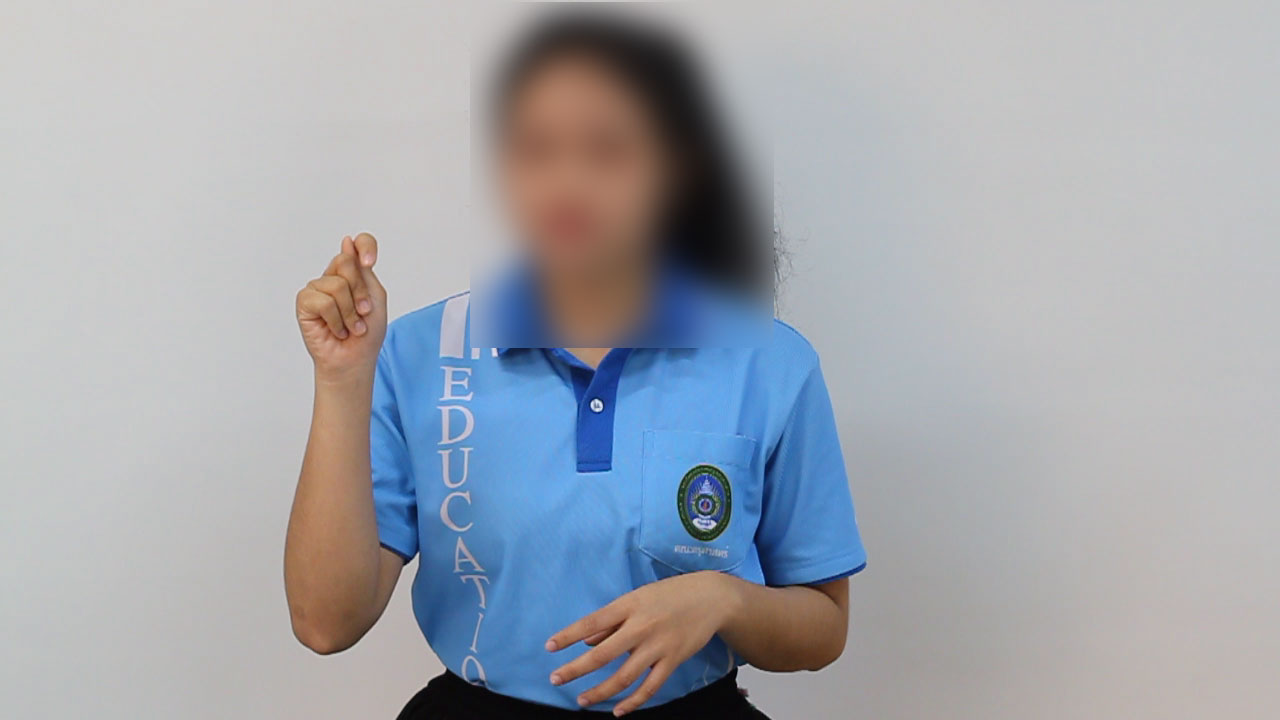tor: (280, 221, 405, 395)
